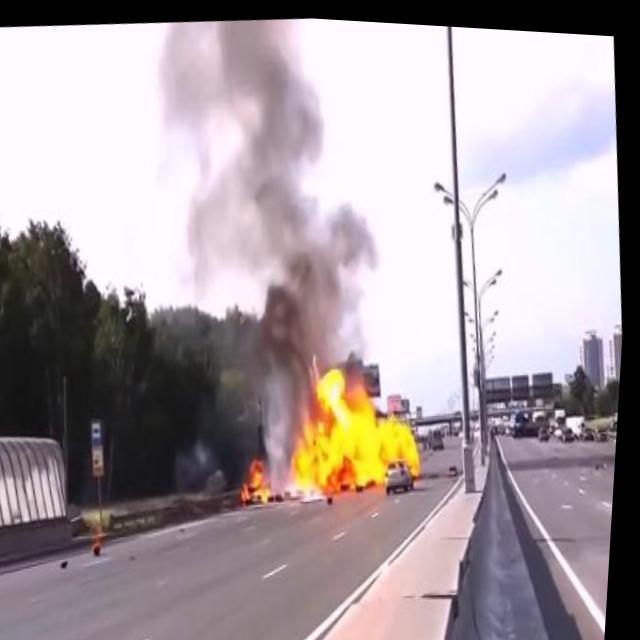fire: (231, 348, 438, 518)
